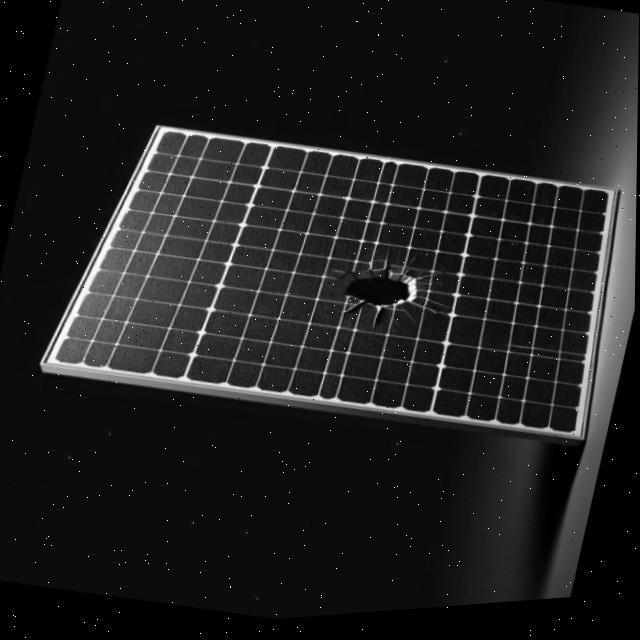Anomaly Solar Panel: (44, 119, 633, 445)
Structural Damage: (331, 269, 418, 314), (416, 298, 452, 316), (407, 302, 439, 321), (412, 274, 458, 286), (336, 303, 367, 320), (399, 258, 418, 281), (368, 311, 382, 335), (382, 254, 390, 274), (418, 286, 446, 290)
